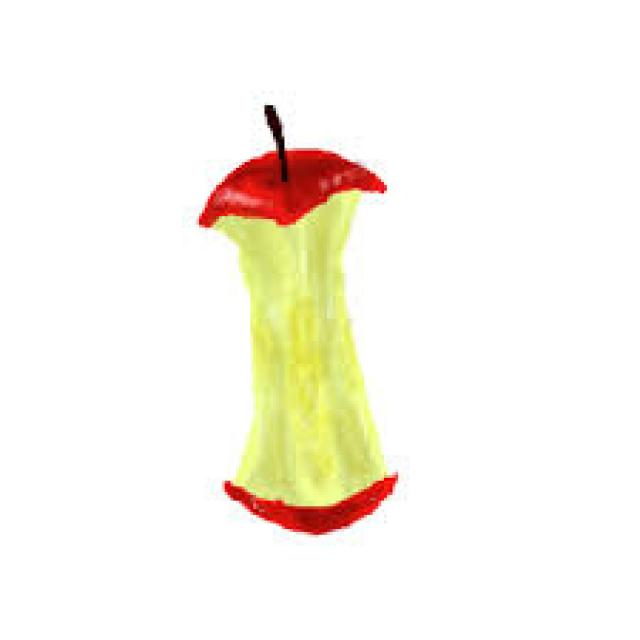food_waste: (199, 105, 395, 532)
